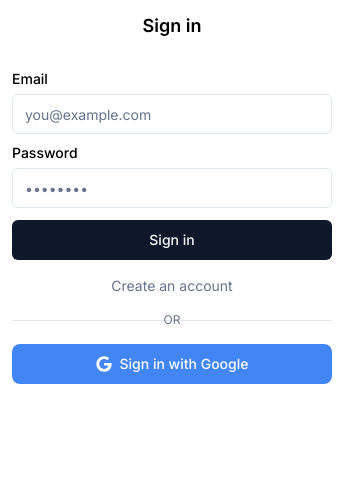
Test: Signin › should show validation error for short password on sign up
The image size is (353, 503).
Step 1. Click the button "Create an account" → (172, 286), box [12, 276, 332, 296]
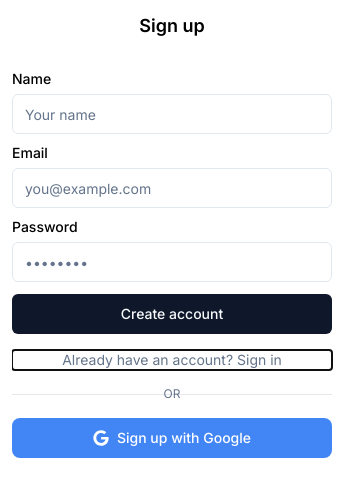
Step 2. Type "Test User" into the field labelled "Name" → (172, 114), box [12, 94, 332, 134]
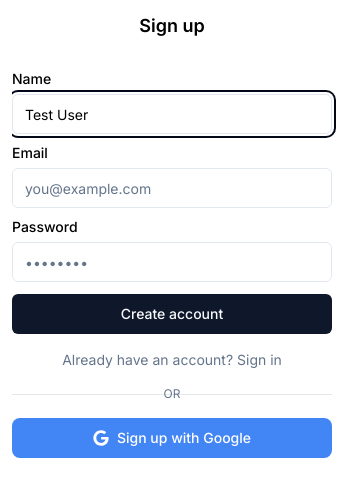
Step 3. Type "test@example.com" into the field labelled "Email" → (172, 188), box [12, 168, 332, 208]
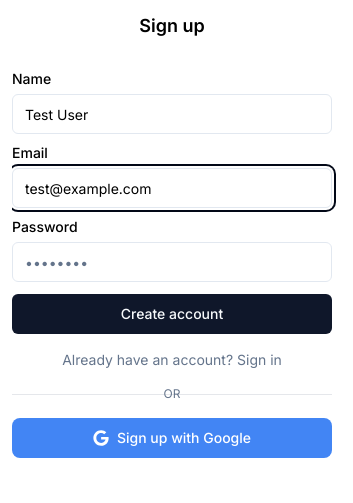
Step 4. Type "short" into the password field labelled "Password" → (172, 262), box [12, 242, 332, 282]
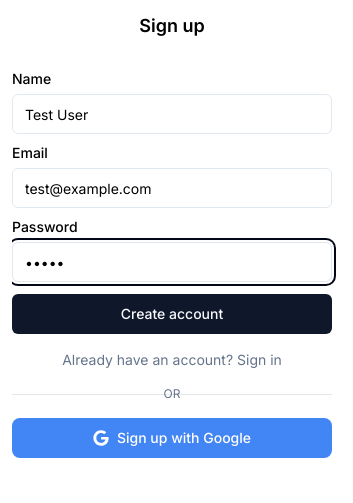
Step 5. Click the button "Create account" → (172, 314), box [12, 294, 332, 334]
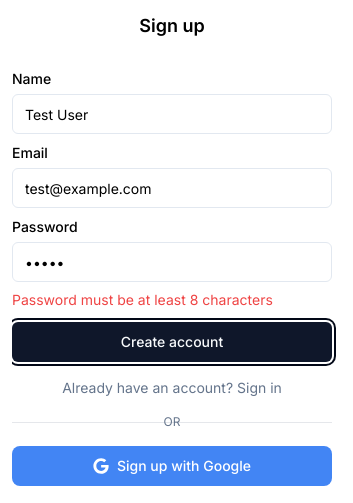
Now the text "Password must be at least 8 characters" is shown, box [12, 291, 273, 308]
